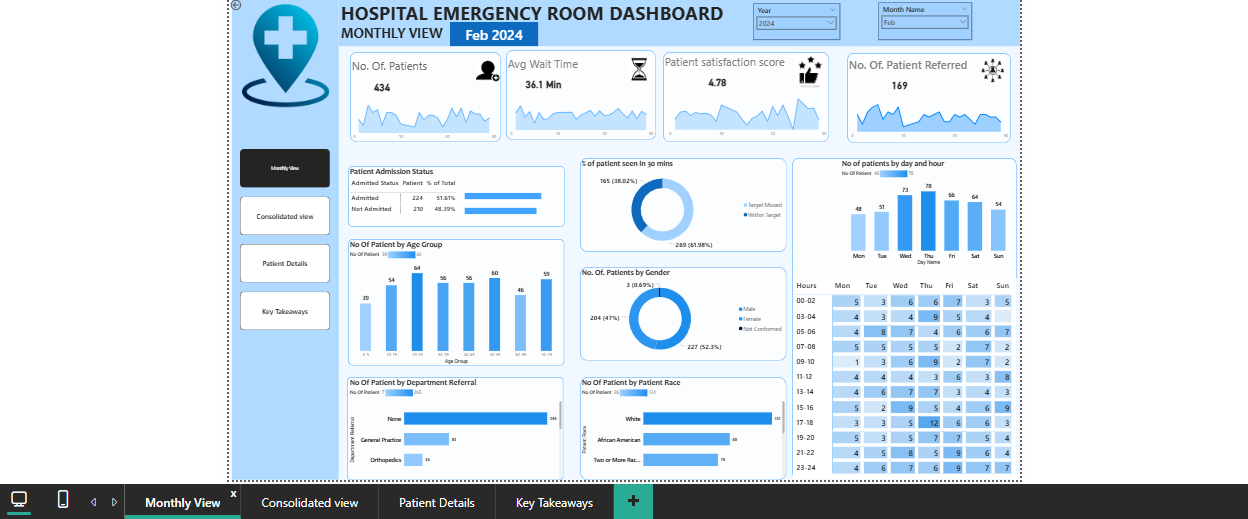

The page's visual inventory and layout, read from the dashboard file:
{"tool":"powerbi","page":{"name":"Monthly View","canvas":[2300,1400],"ordinal":0},"visuals":[{"type":"shape","box":[1020,464.4,600,273],"z":0},{"type":"donutChart","title":"% of patient seen in 30 mins","fields":{"Category":["Hospital ER_Data.Waittime status"],"Y":["Date Table.No Of Patient"]},"box":[1020,465.4,600,272.2],"z":1000},{"type":"shape","box":[9.1,0,310,1399],"z":2000},{"type":"shape","box":[319.9,0,1981,140],"z":3000},{"type":"textbox","box":[319.5,0,1263.5,84.2],"z":4000},{"type":"textbox","box":[319.5,69.7,360.2,69.7],"z":5000},{"type":"shape","box":[350,155.9,438.2,261.8],"z":6000},{"type":"card","fields":{"Values":["Date Table.No Of Patient"]},"box":[348.4,219.1,191.7,78.4],"z":7000},{"type":"slicer","fields":{"Values":["Date Table.Year"]},"box":[1522,14.5,252.7,107.5],"z":8000},{"type":"slicer","fields":{"Values":["Date Table.Month Name"]},"box":[1885.1,11.6,273,110.4],"z":9000},{"type":"textbox","box":[350,167.6,250,61.8],"z":10000},{"type":"areaChart","fields":{"Category":["Date Table.Date.Variation.Date Hierarchy.Day"],"Y":["Date Table.No Of Patient"]},"box":[348.5,293.4,435.7,127.8],"z":11000},{"type":"card","fields":{"Values":["Min(Date Table.Month And Year)"]},"box":[641.9,69.7,255.6,69.7],"z":12000},{"type":"shape","box":[805.9,150,435.3,261.8],"z":13000},{"type":"card","fields":{"Values":["Date Table.Avg Wait Time"]},"box":[805.2,211.1,217.8,75.5],"z":14000},{"type":"textbox","box":[805.9,161.8,267.6,67.6],"z":15000},{"type":"areaChart","fields":{"Category":["Date Table.Date.Variation.Date Hierarchy.Day"],"Y":["Avg(Hospital ER_Data.Patient Waittime)"]},"box":[804.6,287.6,435.7,124.9],"z":16000},{"type":"shape","box":[1261.3,156.6,482.4,261.8],"z":17000},{"type":"shape","box":[1794.1,158.8,476.5,261.8],"z":18000},{"type":"card","fields":{"Values":["Date Table.Satisfaction Score"]},"box":[1310.1,205.2,217.8,75.5],"z":19000},{"type":"areaChart","fields":{"Category":["Date Table.Date.Variation.Date Hierarchy.Day"],"Y":["Date Table.Satisfaction Score"]},"box":[1266.4,278.8,476.3,133.6],"z":20000},{"type":"textbox","box":[1261.8,155.9,367.6,61.8],"z":21000},{"type":"card","fields":{"Values":["Date Table.No of Patient referred"]},"box":[1837.2,214.6,217.8,75.5],"z":22000},{"type":"areaChart","fields":{"Category":["Date Table.Date.Variation.Date Hierarchy.Day"],"Y":["Date Table.No of Patient referred"]},"box":[1795,267.2,476.3,151],"z":23000},{"type":"textbox","box":[1794.1,164.7,364.7,64.7],"z":24000},{"type":"actionButton","box":[0,0,100,40],"z":25000},{"type":"shape","box":[345.6,488,630,177],"z":26000},{"type":"pivotTable","title":"Patient Admission Status","fields":{"Rows":["Hospital ER_Data.Admitted Status"],"Values":["Date Table.No Of Patient1","Date Table.No Of Patient"]},"box":[345,487.5,630,177.5],"z":27000},{"type":"barChart","fields":{"Category":["Hospital ER_Data.Admitted Status"],"Y":["Date Table.No Of Patient"]},"box":[678.9,531.6,307.9,126.3],"z":28000},{"type":"shape","box":[344.7,700,628.9,368],"z":29000},{"type":"clusteredColumnChart","fields":{"Category":["Hospital ER_Data.Age Group"],"Y":["Date Table.No Of Patient"]},"box":[344.7,700,628.9,368.4],"z":30000},{"type":"shape","box":[342.1,1100,628.9,300],"z":31000},{"type":"clusteredBarChart","fields":{"Category":["Hospital ER_Data.Department Referral"],"Y":["Date Table.No Of Patient"]},"box":[344.7,1100,626.3,300],"z":32000},{"type":"shape","box":[1019.4,781.7,600,272.2],"z":33000},{"type":"donutChart","title":"No. Of. Patients by Gender","fields":{"Y":["Date Table.No Of Patient"],"Category":["Hospital ER_Data.Patient Gender"]},"box":[1019.4,781.7,600,272.2],"z":34000},{"type":"shape","box":[1019.4,1100,600,300],"z":35000},{"type":"clusteredBarChart","fields":{"Y":["Date Table.No Of Patient"],"Category":["Hospital ER_Data.Patient Race"]},"box":[1019.4,1100,600,300],"z":36000},{"type":"shape","box":[1636.1,463.9,652.8,933.3],"z":37000},{"type":"pivotTable","fields":{"Rows":["Hospital ER_Data.Waittime Interval"],"Columns":["Date Table.Day Name"],"Values":["Date Table.No Of Patient"]},"box":[1638.2,814.7,650,585.3],"z":38000},{"type":"columnChart","title":"No of patients by day and hour","fields":{"Category":["Date Table.Day Name"],"Y":["Date Table.No Of Patient"]},"box":[1773.5,464.7,514.7,317.6],"z":39000},{"type":"image","box":[716.1,173.4,67.6,76.5],"z":40000},{"type":"image","box":[1140.7,171.3,100,70.6],"z":41000},{"type":"image","box":[1634.8,162.5,105.9,97.1],"z":42000},{"type":"image","box":[2170.6,173.5,100,70.6],"z":43000},{"type":"image","box":[14.7,17.6,300,300],"z":44000},{"type":"pageNavigator","box":[32.4,438.2,261.8,526.5],"z":45000}]}

Visuals, with their boxes on the page's 2300x1400 design canvas (x1, y1, x2, y2). These are canvas units, not pixel positions in the 1248x519 screenshot, which may show the page scaled, cropped or inside an application window:
shape: <box>1020,464,1620,737</box>
"% of patient seen in 30 mins" donutChart: <box>1020,465,1620,738</box>
shape: <box>9,0,319,1399</box>
shape: <box>320,0,2301,140</box>
textbox: <box>320,0,1583,84</box>
textbox: <box>320,70,680,139</box>
shape: <box>350,156,788,418</box>
card - Date Table.No Of Patient: <box>348,219,540,298</box>
slicer - Date Table.Year: <box>1522,14,1775,122</box>
slicer - Date Table.Month Name: <box>1885,12,2158,122</box>
textbox: <box>350,168,600,229</box>
areaChart - Date Table.Date.Variation.Date Hierarchy.Day x Date Table.No Of Patient: <box>348,293,784,421</box>
card - Min(Date Table.Month And Year): <box>642,70,898,139</box>
shape: <box>806,150,1241,412</box>
card - Date Table.Avg Wait Time: <box>805,211,1023,287</box>
textbox: <box>806,162,1074,229</box>
areaChart - Date Table.Date.Variation.Date Hierarchy.Day x Avg(Hospital ER_Data.Patient Waittime): <box>805,288,1240,412</box>
shape: <box>1261,157,1744,418</box>
shape: <box>1794,159,2271,421</box>
card - Date Table.Satisfaction Score: <box>1310,205,1528,281</box>
areaChart - Date Table.Date.Variation.Date Hierarchy.Day x Date Table.Satisfaction Score: <box>1266,279,1743,412</box>
textbox: <box>1262,156,1629,218</box>
card - Date Table.No of Patient referred: <box>1837,215,2055,290</box>
areaChart - Date Table.Date.Variation.Date Hierarchy.Day x Date Table.No of Patient referred: <box>1795,267,2271,418</box>
textbox: <box>1794,165,2159,229</box>
actionButton: <box>0,0,100,40</box>
shape: <box>346,488,976,665</box>
"Patient Admission Status" pivotTable: <box>345,488,975,665</box>
barChart - Hospital ER_Data.Admitted Status x Date Table.No Of Patient: <box>679,532,987,658</box>
shape: <box>345,700,974,1068</box>
clusteredColumnChart - Hospital ER_Data.Age Group x Date Table.No Of Patient: <box>345,700,974,1068</box>
shape: <box>342,1100,971,1400</box>
clusteredBarChart - Hospital ER_Data.Department Referral x Date Table.No Of Patient: <box>345,1100,971,1400</box>
shape: <box>1019,782,1619,1054</box>
"No. Of. Patients by Gender" donutChart: <box>1019,782,1619,1054</box>
shape: <box>1019,1100,1619,1400</box>
clusteredBarChart - Date Table.No Of Patient x Hospital ER_Data.Patient Race: <box>1019,1100,1619,1400</box>
shape: <box>1636,464,2289,1397</box>
pivotTable - Hospital ER_Data.Waittime Interval x Date Table.Day Name: <box>1638,815,2288,1400</box>
"No of patients by day and hour" columnChart: <box>1774,465,2288,782</box>
image: <box>716,173,784,250</box>
image: <box>1141,171,1241,242</box>
image: <box>1635,162,1741,260</box>
image: <box>2171,174,2271,244</box>
image: <box>15,18,315,318</box>
pageNavigator: <box>32,438,294,965</box>
